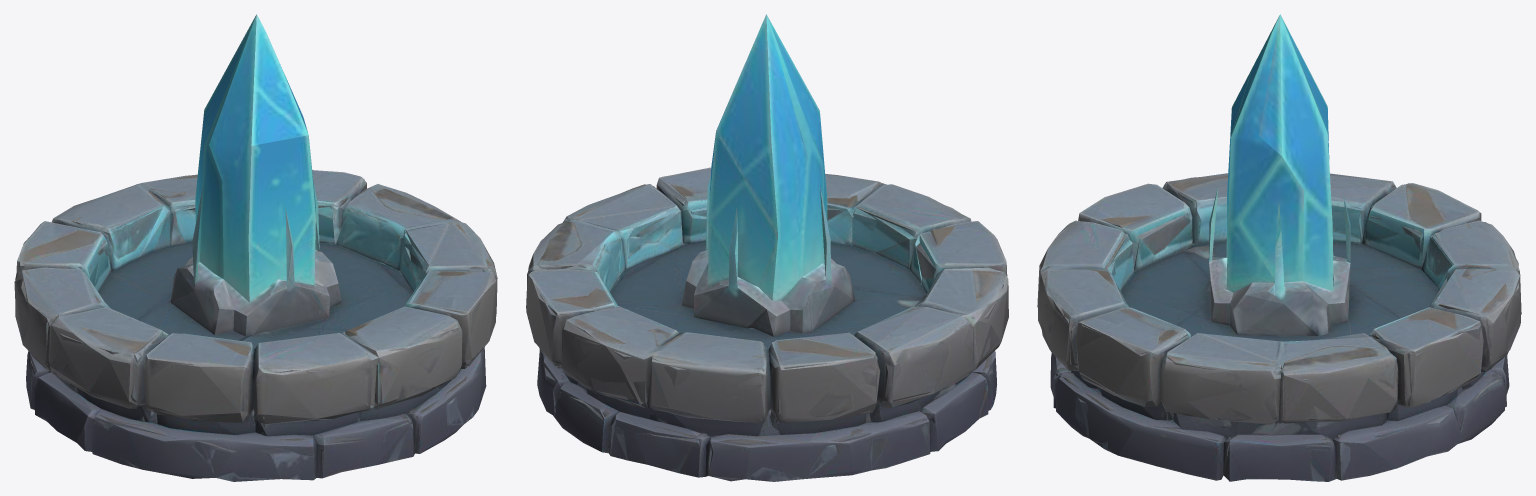
The model's file is crystal_well.glb.
3 renders of one model, left to right at view 1: azimuth 30°, elevation 25°; view 2: azimuth 150°, elevation 25°; view 3: azimuth 270°, elevation 25°, orthographic.
Parts seen in each view (by area): view 1: crystal_well; view 2: crystal_well; view 3: crystal_well.
Boxes of the visible parts, x1,y1,x2,y2 form: crystal_well: (14,14,497,481); crystal_well: (526,14,1008,481); crystal_well: (1037,14,1521,481).
Bounding box in the file's own units: 3.76 × 3.2 × 3.77.
1 material, 1 textured.
